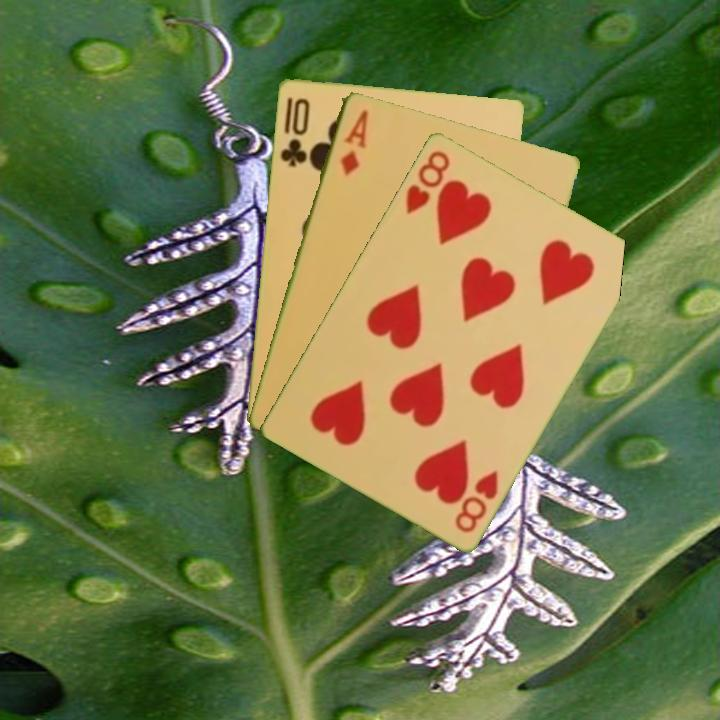10c: (276, 94, 312, 169)
8h: (402, 146, 453, 217), (451, 466, 501, 536)
Ad: (336, 106, 371, 179)
